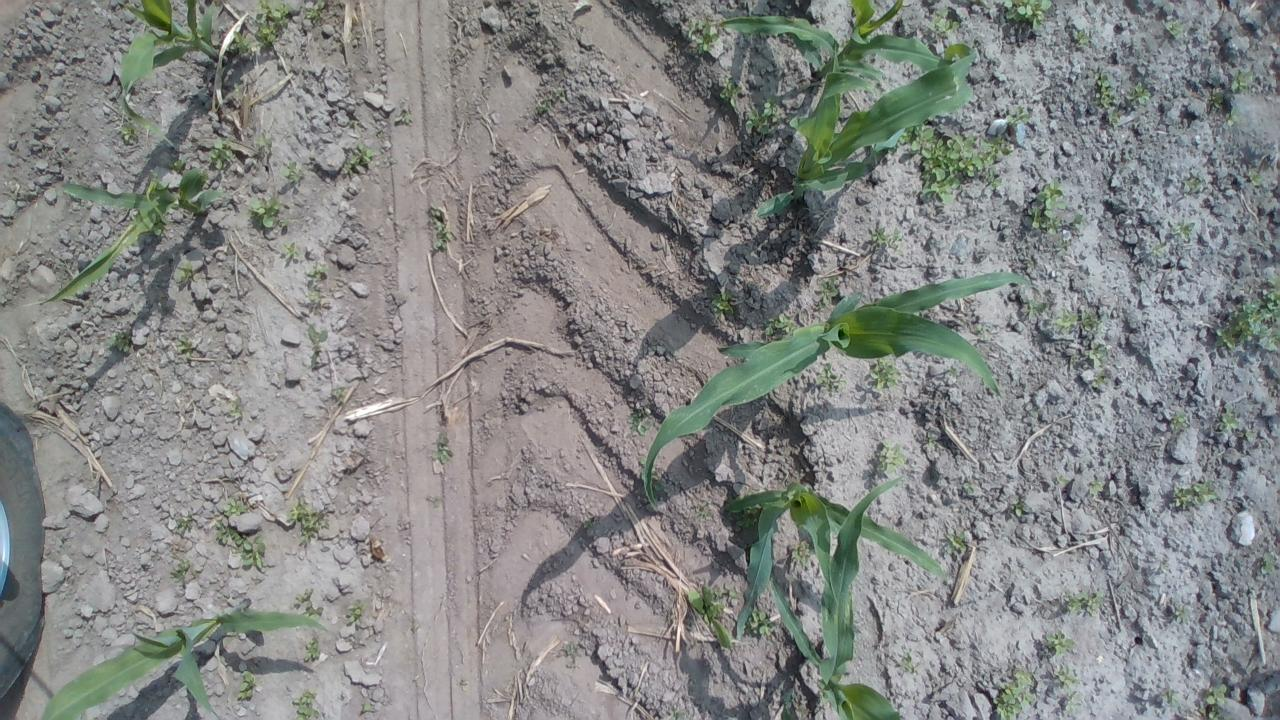Maize: (641, 274, 1032, 511), (756, 44, 978, 218), (42, 598, 325, 720), (762, 481, 902, 720), (729, 484, 949, 633), (35, 166, 226, 300), (712, 0, 963, 85), (117, 0, 225, 136)
Weeds: (898, 120, 1012, 204), (1216, 276, 1280, 350), (1026, 178, 1084, 248), (686, 585, 738, 651), (214, 520, 266, 570), (247, 0, 298, 47), (286, 496, 329, 544), (996, 671, 1032, 720), (1090, 70, 1120, 128), (744, 96, 784, 138), (998, 0, 1052, 31), (686, 17, 720, 57), (876, 437, 908, 479), (250, 195, 288, 229), (1173, 480, 1217, 508), (1062, 588, 1104, 617), (730, 504, 761, 542), (870, 356, 902, 390), (925, 8, 959, 38), (429, 202, 450, 250), (344, 142, 376, 172), (815, 362, 845, 393), (744, 610, 776, 638), (872, 226, 902, 255), (1204, 684, 1228, 720), (764, 312, 800, 336), (813, 276, 838, 310), (294, 589, 321, 620), (208, 138, 235, 169), (294, 688, 320, 720), (1046, 629, 1075, 657), (718, 76, 742, 109), (236, 661, 256, 700), (226, 30, 256, 56), (535, 88, 563, 114), (1051, 308, 1079, 332), (791, 540, 814, 569), (711, 289, 736, 315), (1125, 80, 1152, 104), (222, 497, 251, 518), (170, 558, 193, 584), (303, 0, 325, 27), (305, 320, 329, 344), (1081, 310, 1105, 334), (1054, 667, 1080, 689), (628, 410, 650, 435), (281, 158, 302, 184), (1085, 342, 1106, 368), (942, 530, 966, 552), (174, 259, 193, 286), (348, 600, 369, 624), (782, 689, 798, 720), (109, 330, 131, 352), (174, 336, 194, 360), (1230, 70, 1250, 94), (1220, 407, 1238, 432), (304, 637, 322, 662), (1007, 106, 1030, 125), (150, 216, 169, 238), (307, 263, 330, 280), (1022, 300, 1046, 316), (1009, 495, 1025, 518), (1259, 552, 1275, 575), (436, 438, 450, 464), (899, 654, 918, 672), (1174, 222, 1192, 241), (1170, 412, 1186, 432), (176, 512, 192, 532), (282, 241, 300, 258), (120, 125, 138, 142), (1248, 167, 1264, 185), (1166, 20, 1184, 36), (1207, 92, 1223, 109), (1072, 30, 1088, 46), (396, 111, 414, 125), (255, 132, 272, 146), (168, 158, 185, 172), (304, 289, 322, 302), (1150, 242, 1166, 256), (1224, 114, 1240, 127), (1092, 372, 1105, 388), (1184, 177, 1200, 190), (334, 386, 348, 400), (1089, 481, 1102, 496), (1166, 690, 1178, 706), (926, 432, 938, 448), (227, 402, 240, 416), (651, 480, 662, 496), (308, 351, 318, 368), (974, 322, 991, 332), (962, 482, 975, 495), (1066, 702, 1082, 712), (358, 702, 374, 712), (670, 709, 684, 720), (1174, 610, 1184, 624), (232, 84, 242, 98), (1246, 430, 1256, 442), (565, 644, 576, 654), (1055, 476, 1068, 484), (948, 368, 956, 376), (584, 521, 592, 529), (1070, 354, 1076, 364)
